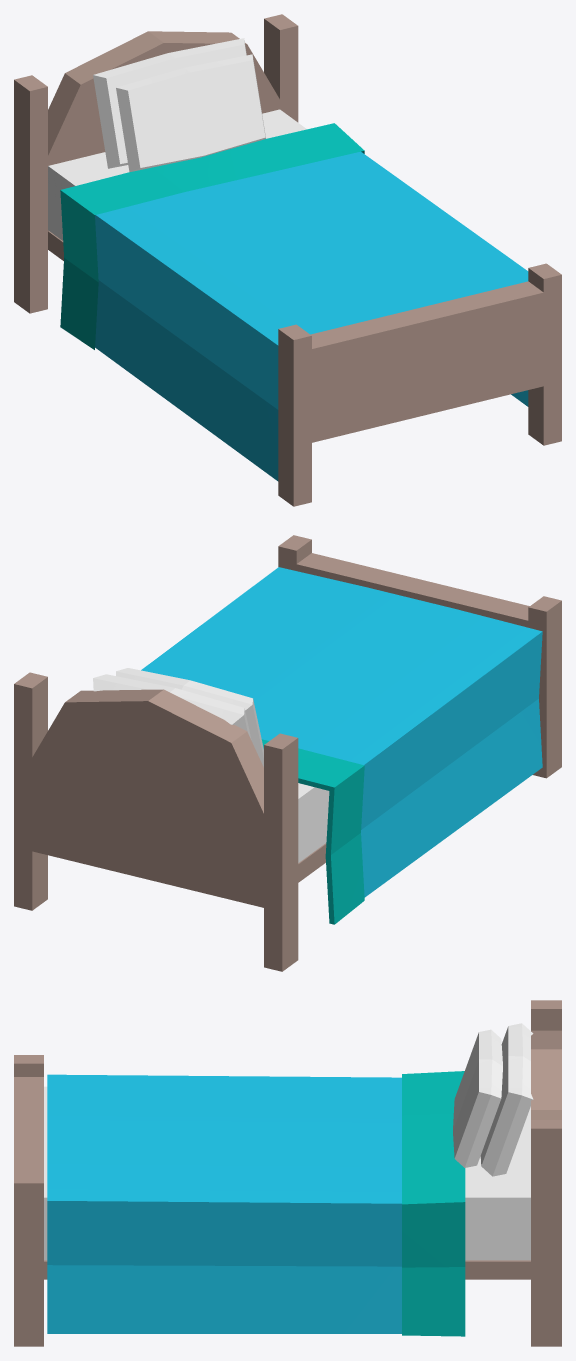
File: bed.dae
The picture shows the model from 3 angles, top to bottom: view 1: azimuth 30°, elevation 25°; view 2: azimuth 150°, elevation 25°; view 3: azimuth 270°, elevation 25°; orthographic projection. The views are drawn at different scales.
Parts seen in each view (by area): view 1: Bed_01_Cube_044; view 2: Bed_01_Cube_044; view 3: Bed_01_Cube_044.
Part boxes in pixels (box(x1,y1,x2,y2)): Bed_01_Cube_044: box(14, 14, 561, 506); Bed_01_Cube_044: box(14, 535, 561, 971); Bed_01_Cube_044: box(14, 1000, 561, 1346).
Size of the model in its own units: 11.98 by 21.16 by 9.94.
